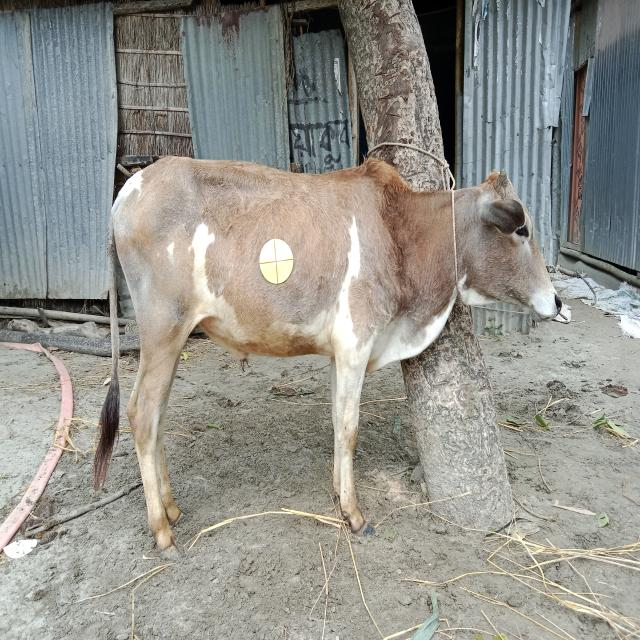badan_sapi: (115, 165, 420, 362)
sapi: (92, 146, 583, 558)
